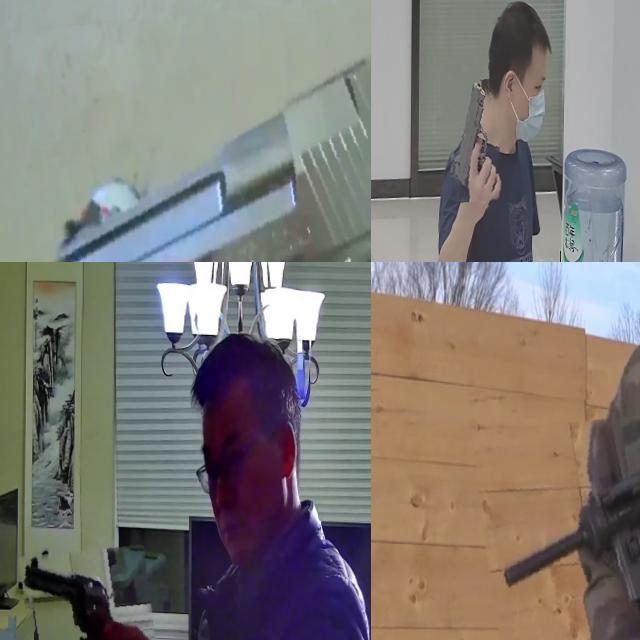gun-knife-thesis - v11 Yolov5 augmented: (23, 0, 371, 262), (478, 393, 640, 640), (24, 543, 161, 640), (445, 76, 503, 200)
